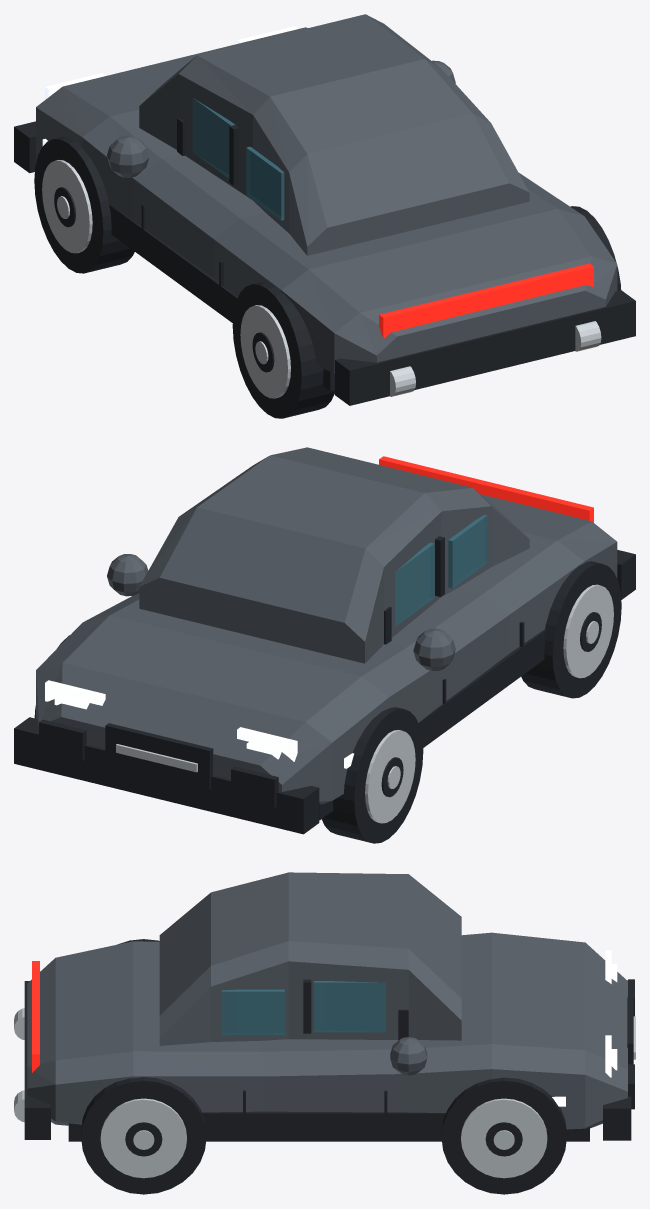
Rendered from dodge_charger.gltf.
The picture shows the model from 3 angles, top to bottom: view 1: azimuth 30°, elevation 25°; view 2: azimuth 150°, elevation 25°; view 3: azimuth 270°, elevation 25°; orthographic projection. The views are drawn at different scales.
Visible parts, largest first — view 1: Graphite metallic body, Black trim and tires, Brushed alloy, Red tail lights, Tinted glass, LED lights; view 2: Graphite metallic body, Black trim and tires, Brushed alloy, Tinted glass, Red tail lights, LED lights; view 3: Graphite metallic body, Black trim and tires, Brushed alloy, Tinted glass, Red tail lights, LED lights.
Part boxes in pixels (x1,y1,x2,y2): Graphite metallic body: [36, 14, 617, 373]; Black trim and tires: [14, 118, 635, 418]; Brushed alloy: [42, 160, 601, 398]; Red tail lights: [379, 263, 593, 338]; Tinted glass: [192, 98, 284, 220]; LED lights: [42, 26, 297, 145]; Graphite metallic body: [36, 447, 617, 804]; Black trim and tires: [14, 536, 635, 843]; Brushed alloy: [116, 584, 613, 823]; Tinted glass: [395, 514, 487, 626]; Red tail lights: [379, 456, 593, 522]; LED lights: [45, 680, 353, 768]; Graphite metallic body: [27, 872, 627, 1129]; Black trim and tires: [24, 939, 634, 1194]; Brushed alloy: [14, 1008, 635, 1178]; Tinted glass: [221, 981, 385, 1034]; Red tail lights: [32, 961, 39, 1072]; LED lights: [552, 950, 617, 1106].
Size of the model in its own units: 2.04 by 1.36 by 3.52.
